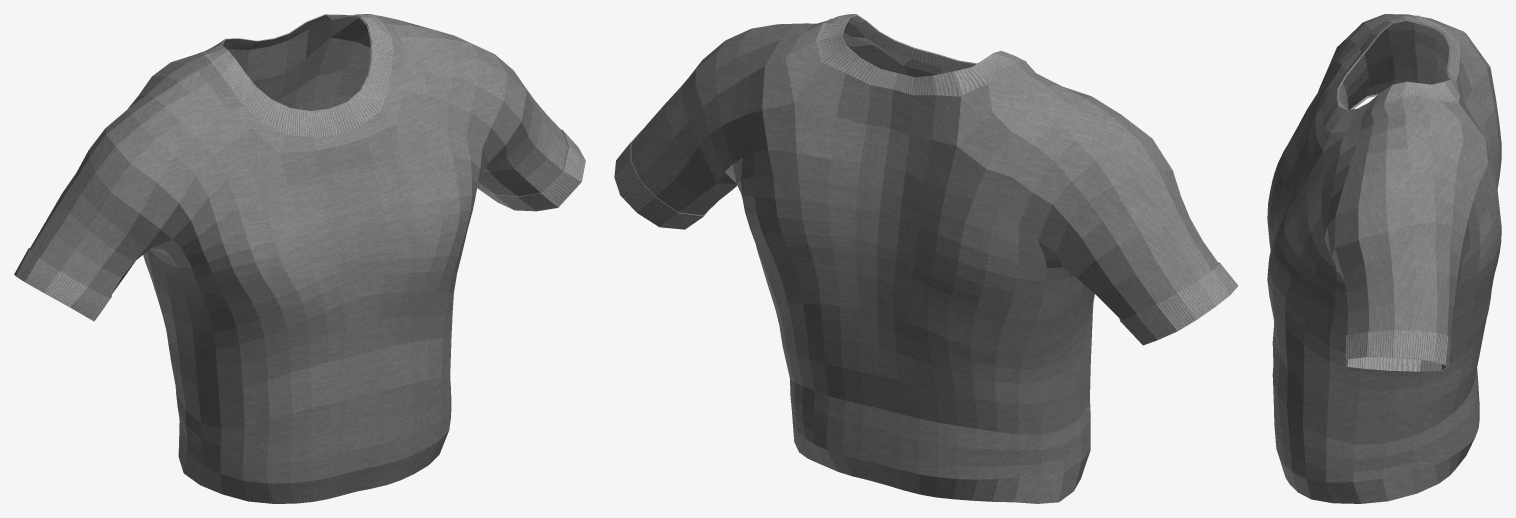
The model's file is garment.glb.
3 renders of one model, left to right at view 1: azimuth 30°, elevation 25°; view 2: azimuth 150°, elevation 25°; view 3: azimuth 270°, elevation 25°, orthographic. The views are drawn at different scales.
Parts seen in each view (by area): view 1: garment; view 2: garment; view 3: garment.
Part boxes in pixels (<box>): garment: <box>14,14,585,503</box>; garment: <box>614,14,1238,503</box>; garment: <box>1267,14,1501,503</box>.
Bounding box in the file's own units: 6.6 × 4.72 × 2.46.
Materials: 1 (1 with a texture image).
